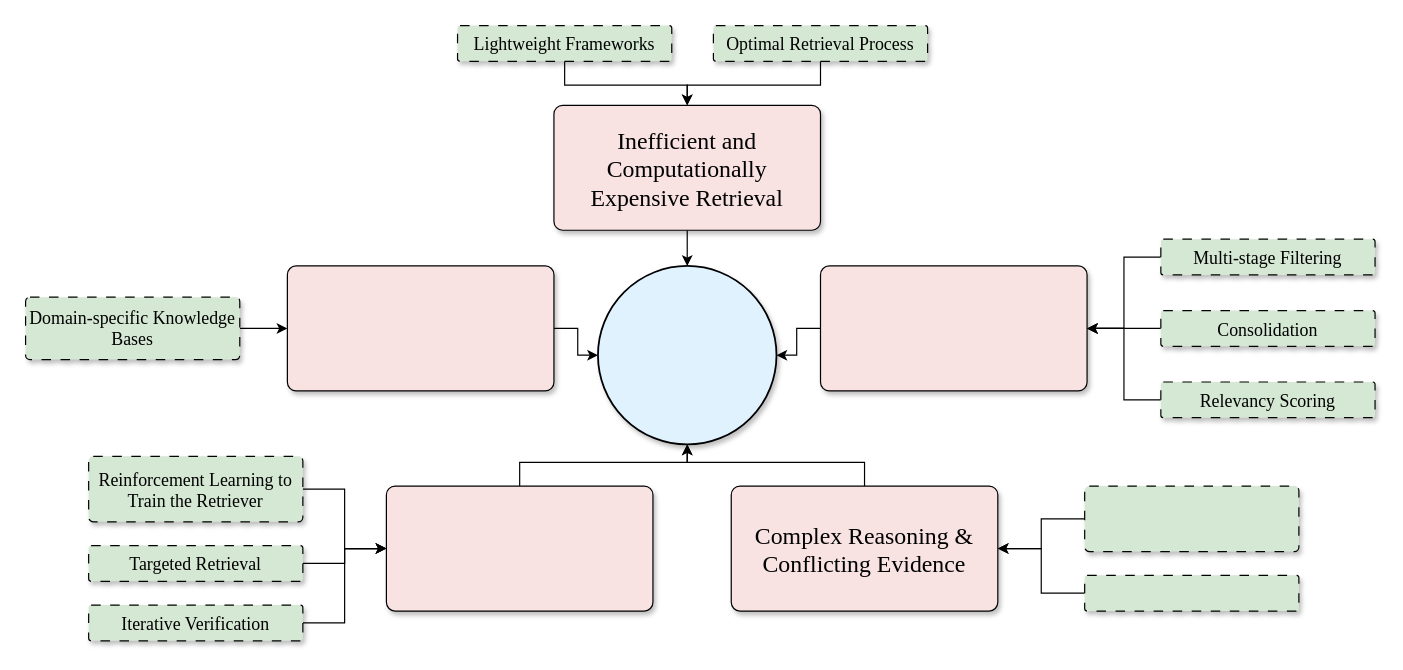
The diagram is 1403 pixels wide and 670 high, and some of its shapes have lost their labels. Here are the shapes that lost their labels. From the top down, the centre of each, then its label:
At point (421, 329): "Unavailability of Evidence in Specialized Domains".
At point (954, 329): "Managing Large Volumes of Retrieved Data".
At point (688, 356): "Limitations and Mitigations".
At point (1192, 520): "Specialized Multi-Agent Systems".
At point (520, 549): "Noise & Irrelevant Information in Retrieval".
At point (1192, 594): "Structured Dataset".
